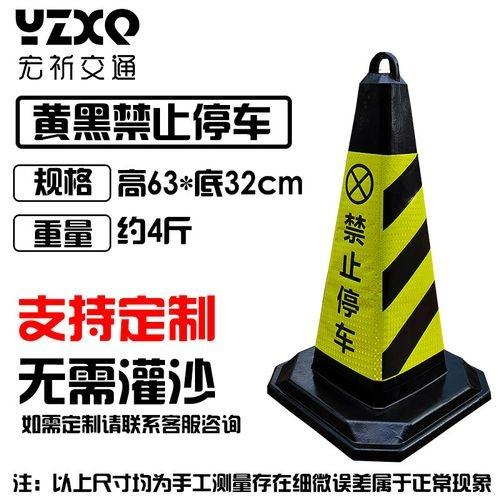cone_barrel: (278, 52, 479, 450)
